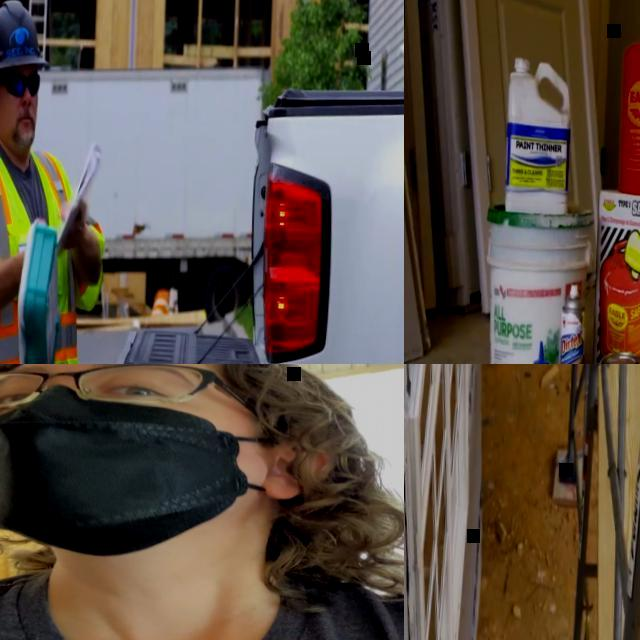helmet: (0, 0, 51, 79)
mask: (0, 380, 281, 563)
no_helmet: (0, 364, 311, 387)
no_mask: (0, 108, 40, 150)
no_vest: (0, 564, 404, 640)
person: (0, 364, 404, 640), (0, 0, 115, 364)
vehicle: (105, 72, 404, 364)
vest: (0, 138, 109, 364)
